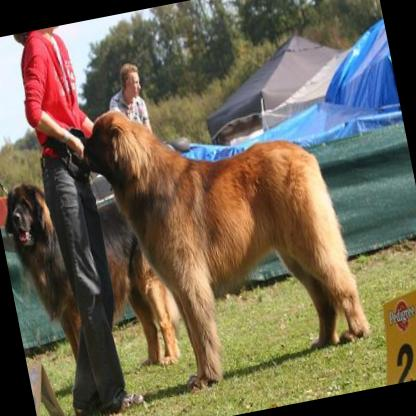Leonberg: (76, 70, 377, 400), (0, 157, 190, 391)
